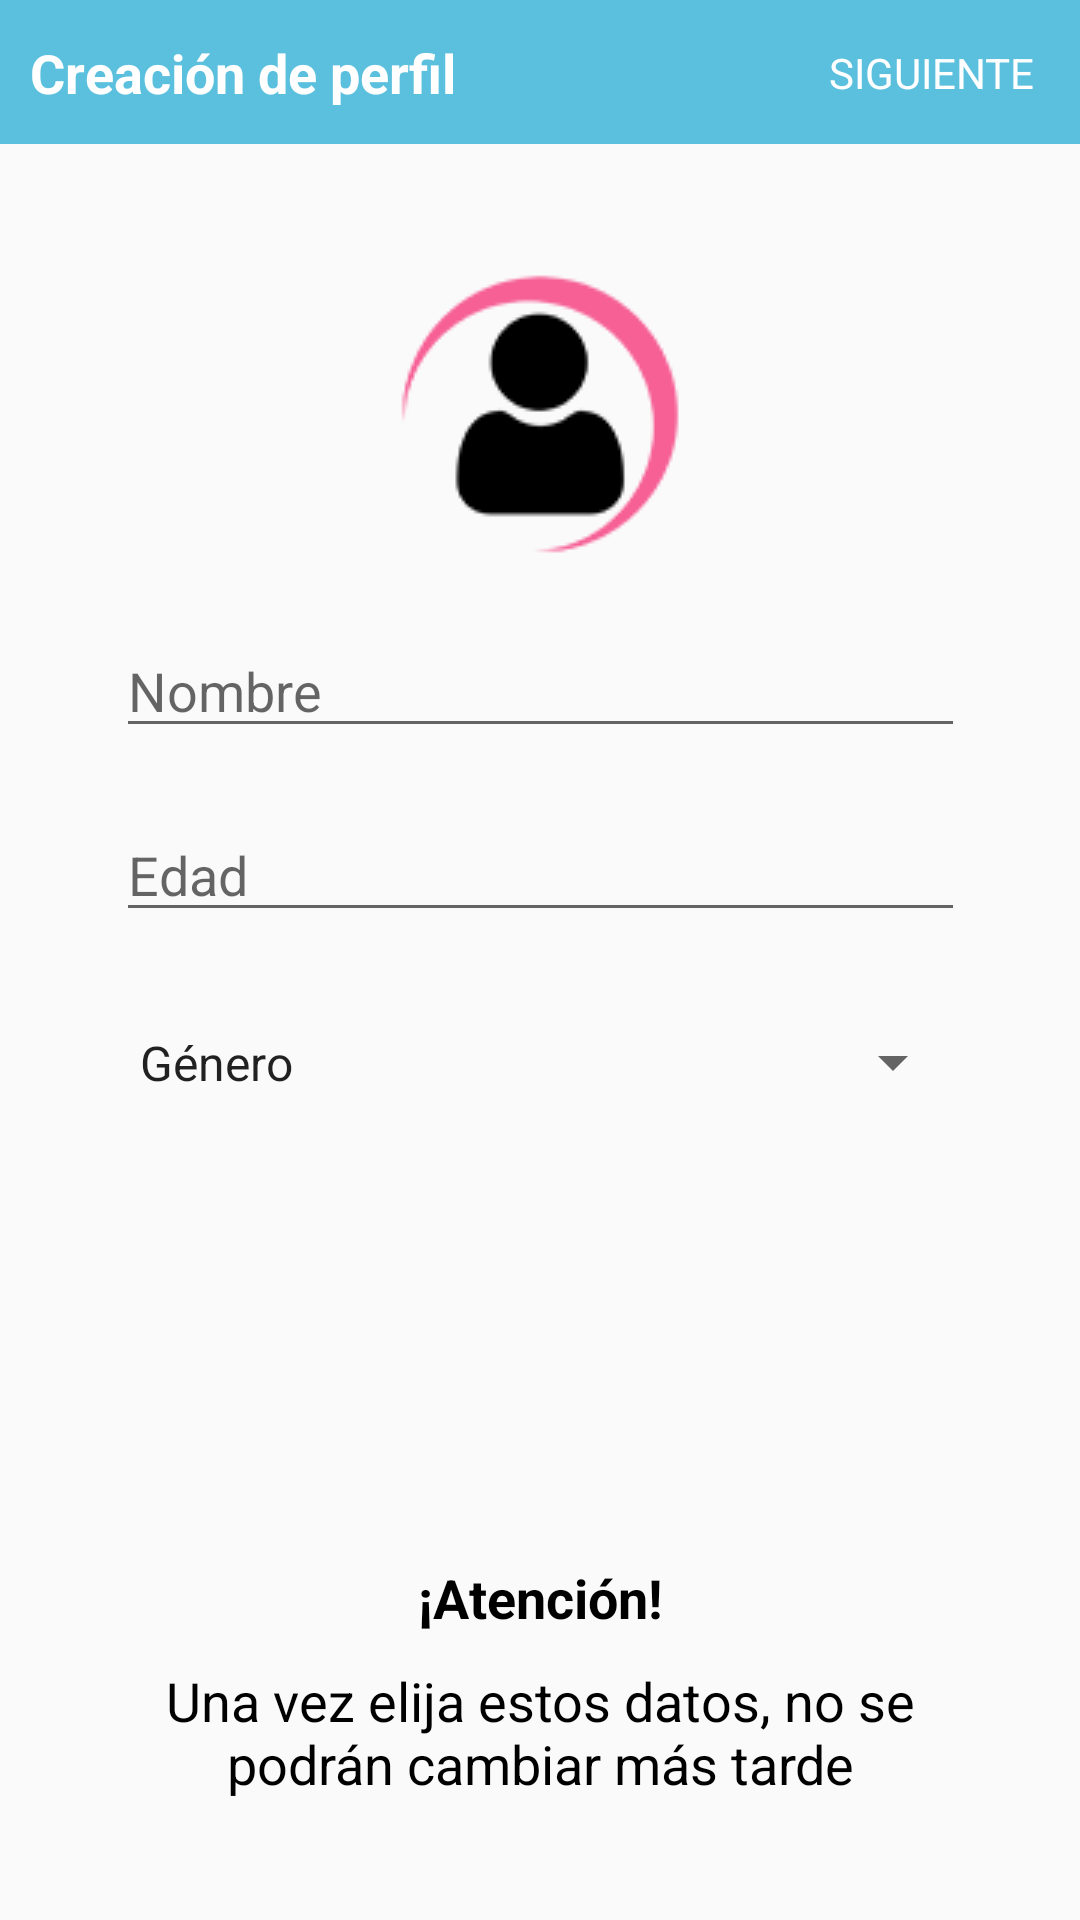

Icons on this 1080×1920 Android screen, each with its box as region(x1, y1, x2, y2):
perfil: region(401, 275, 679, 553)
